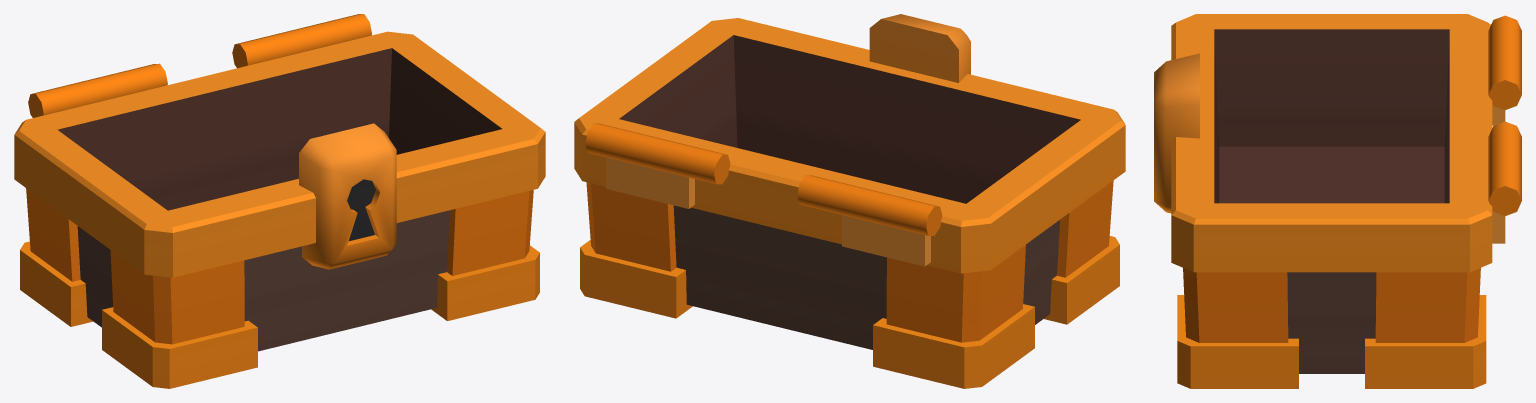
The model's file is Chest_03.glb.
The picture shows the model from 3 angles, left to right: view 1: azimuth 30°, elevation 25°; view 2: azimuth 150°, elevation 25°; view 3: azimuth 270°, elevation 25°; orthographic projection. The views are drawn at different scales.
Visible parts, largest first — view 1: Chest_03; view 2: Chest_03; view 3: Chest_03.
Boxes of the visible parts, x1=… form: Chest_03: x1=14, y1=14, x2=545, y2=388; Chest_03: x1=574, y1=14, x2=1125, y2=388; Chest_03: x1=1154, y1=14, x2=1521, y2=388.
Size of the model in its own units: 1.22 by 0.5958 by 0.909.
1 material, 1 textured.
